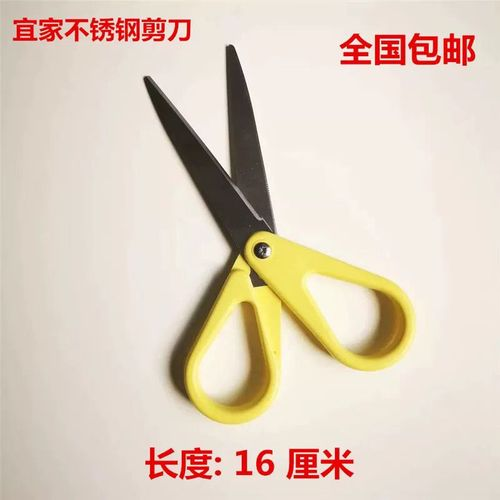scissor: (143, 43, 427, 425)
